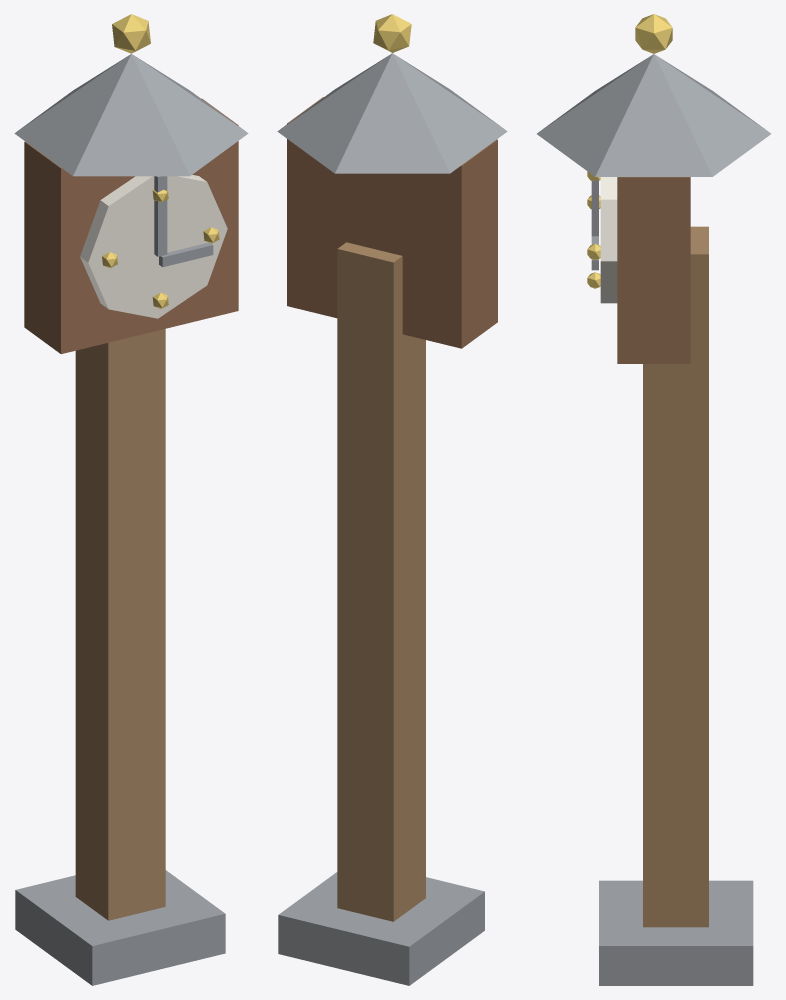
File: town_clock.glb
3 views of the same model, side by side, from view 1: azimuth 30°, elevation 25°; view 2: azimuth 150°, elevation 25°; view 3: azimuth 270°, elevation 25° (orthographic). The views are drawn at different scales.
Visible parts, largest first — view 1: post.003, case, cap.001, foot.001, face, finial.002, hand_long, hand_short; view 2: post.003, case, cap.001, foot.001, finial.002; view 3: post.003, cap.001, case, foot.001, face, finial.002.
Boxes of the visible parts, bbox=[...] form: post.003: bbox=[75, 329, 165, 920]; case: bbox=[24, 98, 238, 354]; cap.001: bbox=[14, 54, 248, 176]; foot.001: bbox=[15, 870, 225, 985]; face: bbox=[80, 175, 227, 318]; finial.002: bbox=[112, 14, 150, 53]; hand_long: bbox=[154, 176, 167, 256]; hand_short: bbox=[159, 242, 213, 267]; post.003: bbox=[337, 242, 425, 921]; case: bbox=[287, 97, 497, 348]; cap.001: bbox=[277, 53, 507, 173]; foot.001: bbox=[278, 872, 484, 985]; finial.002: bbox=[373, 14, 411, 52]; post.003: bbox=[643, 226, 708, 927]; cap.001: bbox=[537, 54, 770, 176]; case: bbox=[617, 177, 690, 363]; foot.001: bbox=[599, 880, 753, 985]; face: bbox=[600, 177, 617, 303]; finial.002: bbox=[635, 14, 672, 53].
Bounding box in the file's own units: 0.56 × 2.82 × 0.64.
